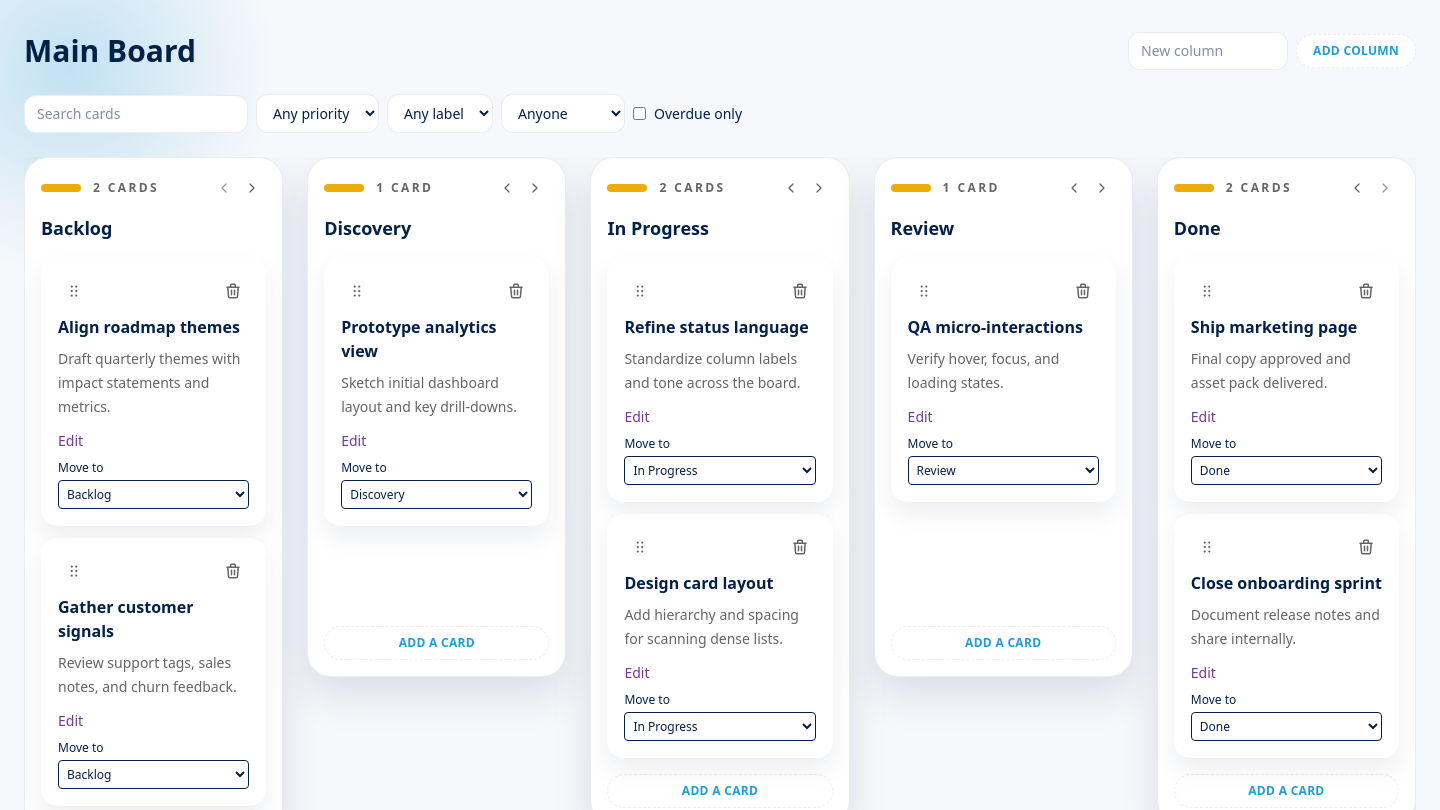
Scenario: cancels card edits without saving
expect the field named "Board name" is shown: met, box [24,33,1116,69]
Click the button with aria-label "Edit Align roadmap themes": (71, 441) [58,431,83,451]
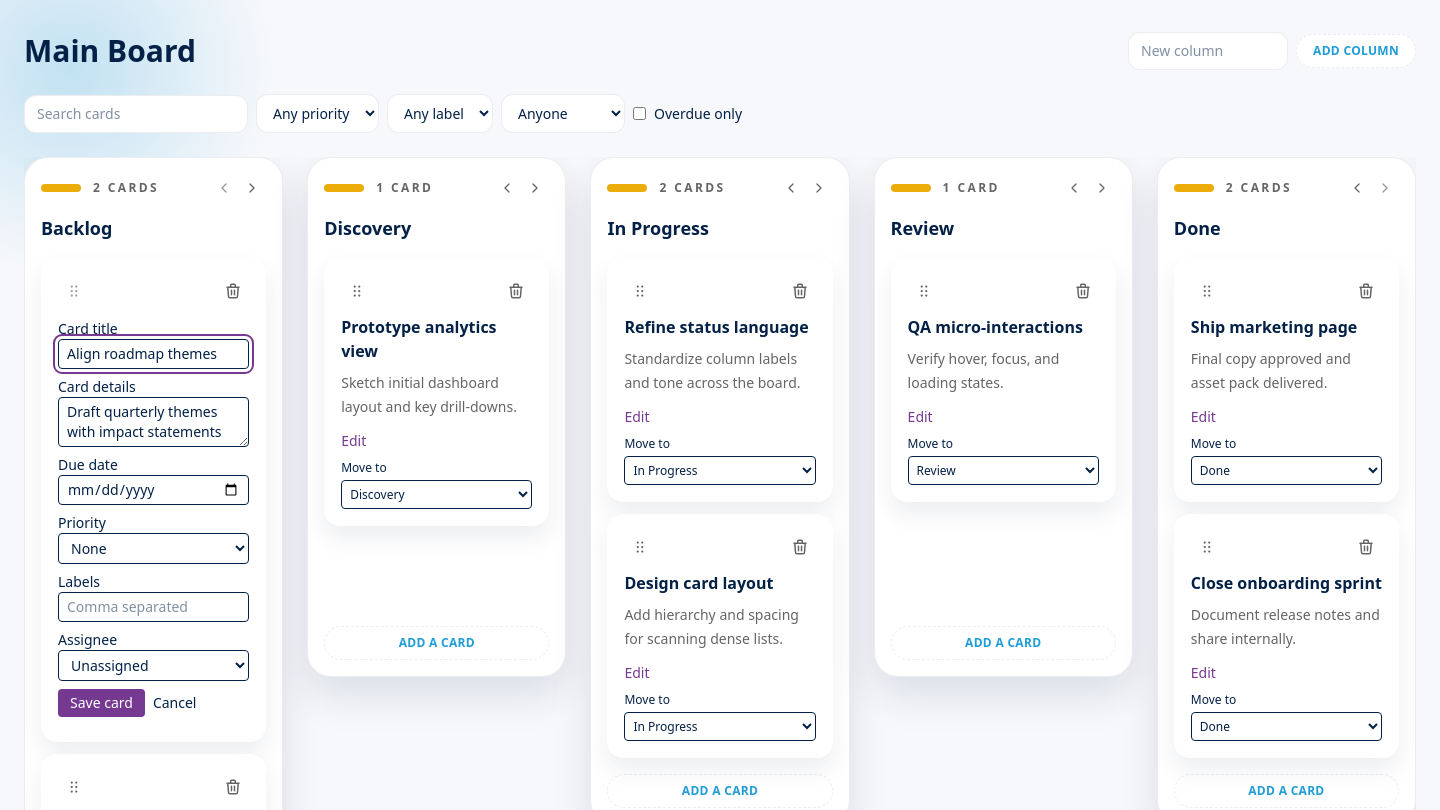
Clear the field labelled "Card title": (154, 354) [58,339,249,369]
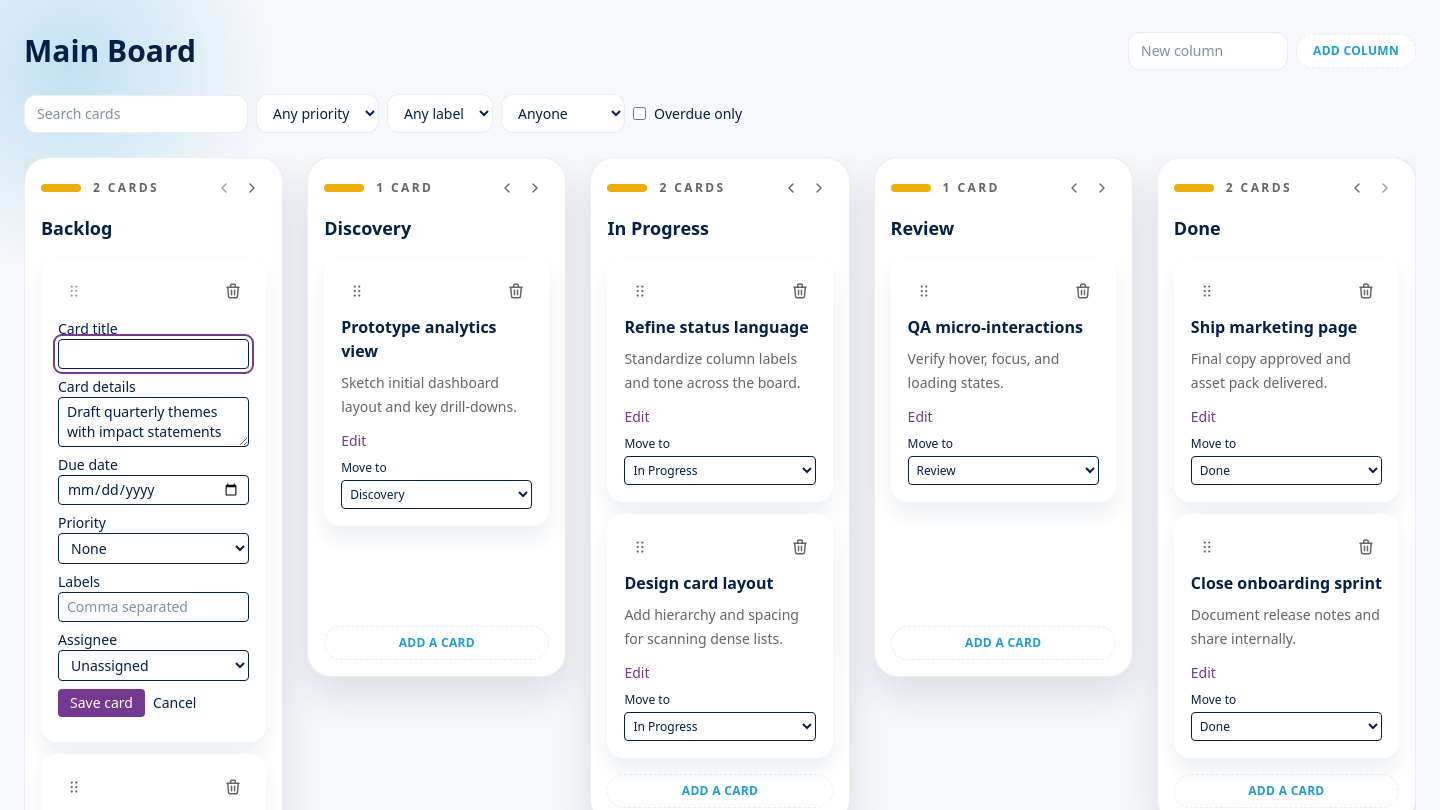
Click the button "Cancel": (175, 703) [153,693,196,713]
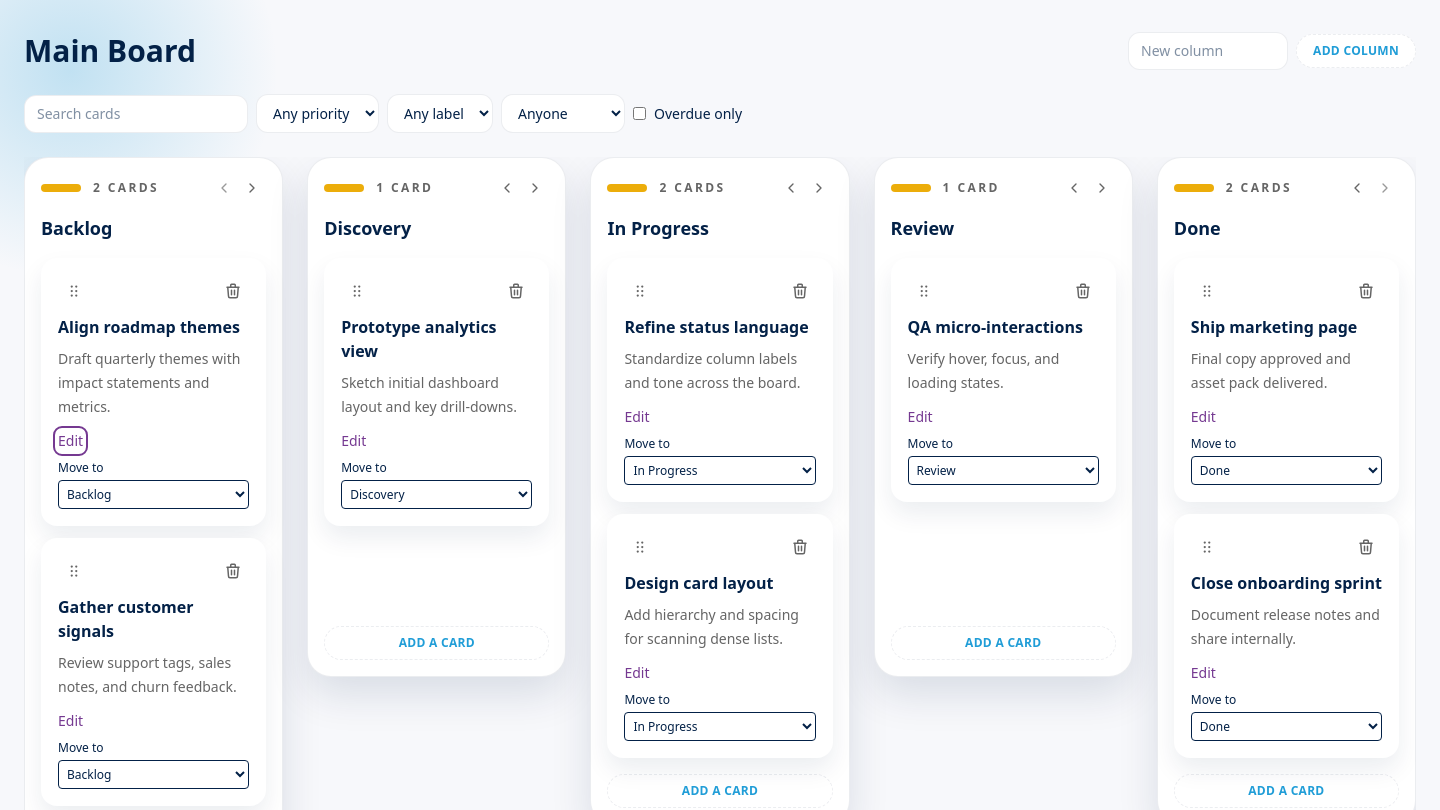
expect the heading "Align roadmap themes" is shown: met, box [58,315,249,339]
